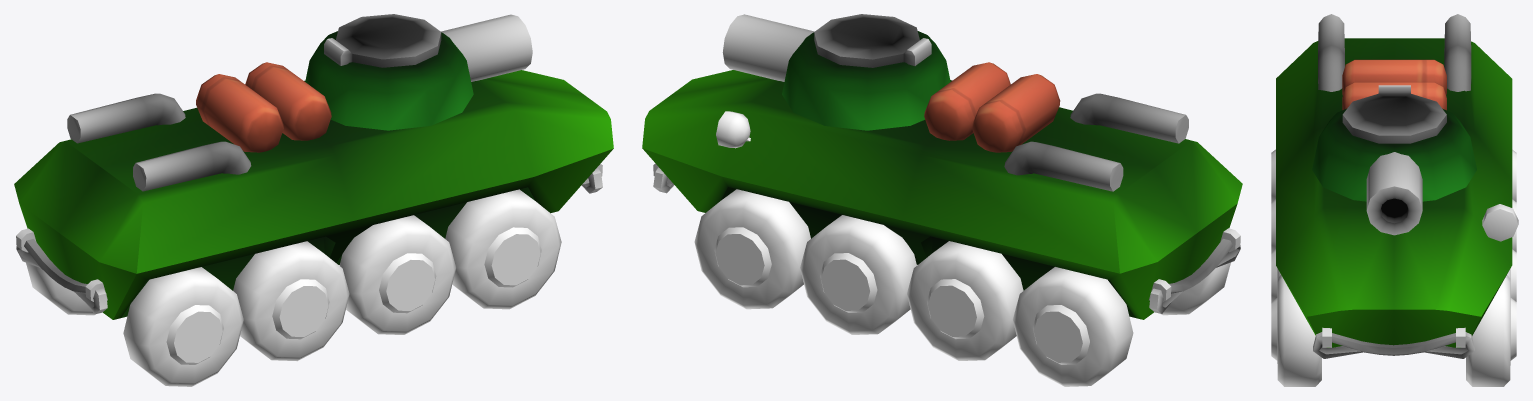
File: APC2_w.fbx
3 views of the same model, side by side, from view 1: azimuth 30°, elevation 25°; view 2: azimuth 150°, elevation 25°; view 3: azimuth 270°, elevation 25° (orthographic). The views are drawn at different scales.
Visible parts, largest first — view 1: Tank4_Red_1, Barrel3, TankAcc3; view 2: Tank4_Red_1, Barrel3, TankAcc3; view 3: Tank4_Red_1, Barrel3, TankAcc3.
Part boxes in pixels (x1,y1,x2,y2): Tank4_Red_1: (14, 70, 613, 386); Barrel3: (305, 14, 532, 130); TankAcc3: (196, 62, 331, 152); Tank4_Red_1: (642, 70, 1242, 386); Barrel3: (722, 14, 950, 130); TankAcc3: (924, 62, 1060, 152); Tank4_Red_1: (1271, 14, 1518, 386); Barrel3: (1312, 85, 1476, 235); TankAcc3: (1342, 59, 1446, 110).
Size of the model in its own units: 57.44 by 25.86 by 23.98.
6 materials, 1 textured.
